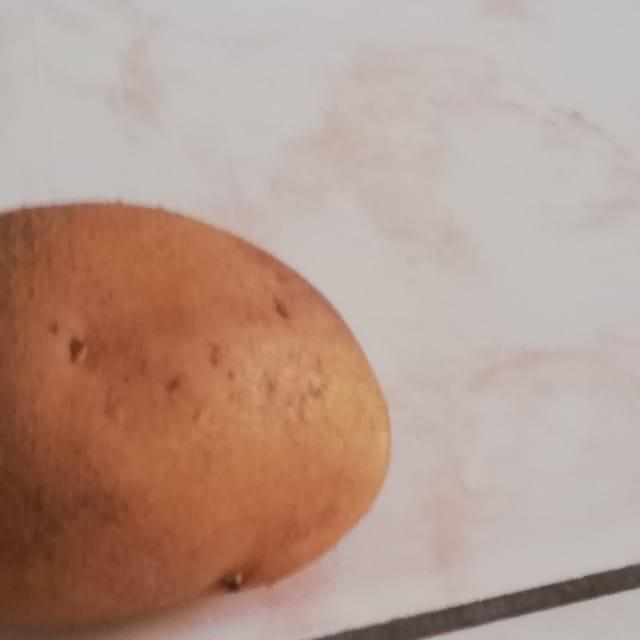potato: (0, 172, 402, 640)
